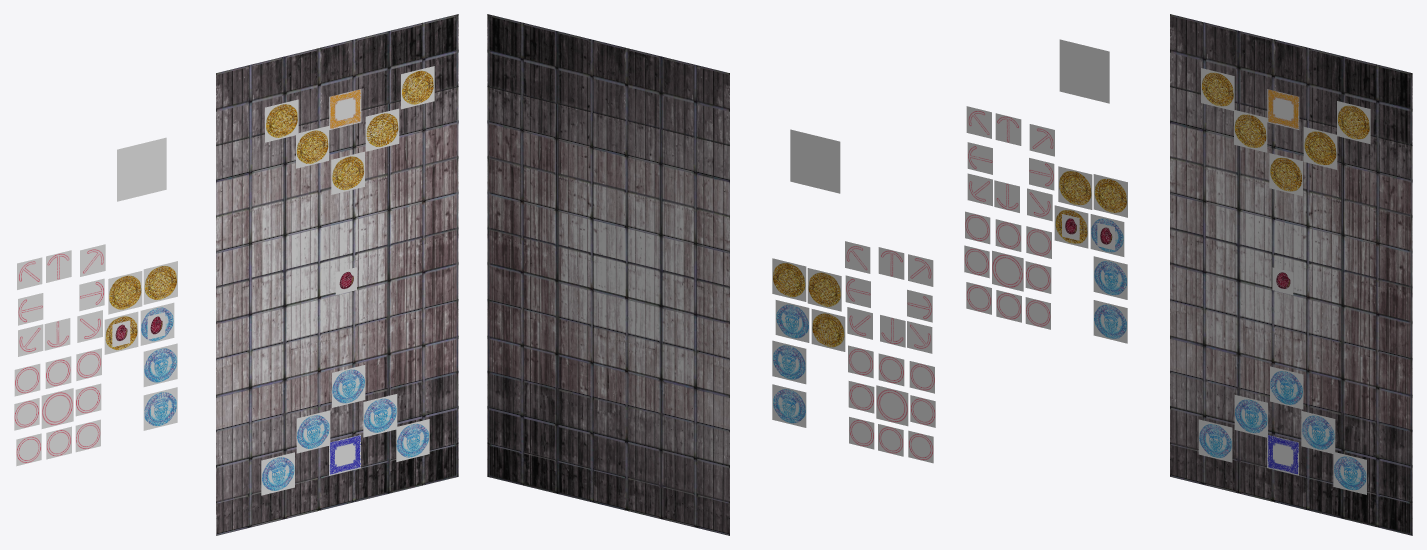
The model's file is Board4Scene.dae.
3 renders of one model, left to right at view 1: azimuth 30°, elevation 25°; view 2: azimuth 150°, elevation 25°; view 3: azimuth 330°, elevation 25°, orthographic.
Parts seen in each view (by area): view 1: Board03, Transparent, Blue07, Red07, Red06, Blue06, Blue03, Blue02, Red03, Red05, Blue05, Red04 (+25 smaller); view 2: Board03, Transparent, Blue07, Red07, Blue06, Red06, RedBeanObject, BlueBeanObject, YellowFlare, PossibleN, PossibleE, PossibleW_1 (+13 smaller); view 3: Board03, Transparent, Blue06, Blue07, Red07, Red06, Blue03, Red03, Blue05, Blue01, Red05, Red01 (+25 smaller).
Boxes of the visible parts, x1,y1,x2,y2 form: Board03: (216, 14, 458, 535); Transparent: (117, 137, 166, 201); Blue07: (143, 387, 177, 430); Red07: (143, 261, 177, 304); Red06: (108, 271, 142, 314); Blue06: (143, 343, 177, 386); Blue03: (363, 394, 397, 437); Blue02: (296, 410, 330, 453); Red03: (365, 108, 399, 151); Red05: (401, 66, 434, 109); Blue05: (261, 452, 294, 495); Red04: (265, 99, 298, 142); Board03: (487, 14, 729, 535); Transparent: (790, 129, 840, 193); Blue07: (772, 384, 806, 427); Red07: (772, 258, 806, 301); Blue06: (772, 340, 806, 384); Red06: (807, 268, 841, 311); RedBeanObject: (811, 309, 845, 351); BlueBeanObject: (775, 300, 809, 342); YellowFlare: (876, 385, 908, 426); PossibleN: (878, 353, 904, 386); PossibleE: (848, 381, 874, 413); PossibleW_1: (878, 247, 904, 279); Board03: (1170, 14, 1412, 535); Transparent: (1059, 39, 1109, 103); Blue06: (1093, 256, 1127, 299); Blue07: (1093, 300, 1127, 343); Red07: (1093, 174, 1127, 217); Red06: (1058, 166, 1092, 209); Blue03: (1301, 411, 1335, 453); Red03: (1303, 127, 1337, 169); Blue05: (1198, 419, 1232, 462); Blue01: (1270, 366, 1303, 409); Red05: (1337, 101, 1370, 144); Red01: (1269, 153, 1302, 196).
Bounding box in the file's own units: 66.49 × 2.32 × 65.85.
11 materials, 11 textured.
